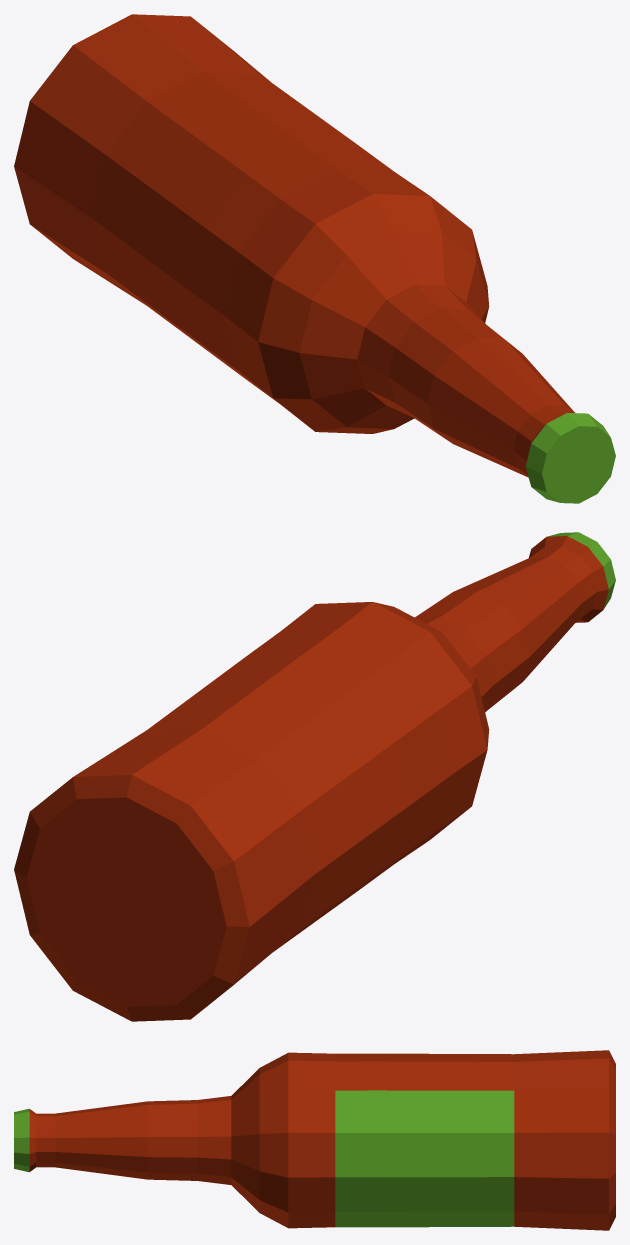
The model's file is beerBottle.obj.
3 renders of one model, top to bottom at view 1: azimuth 30°, elevation 25°; view 2: azimuth 150°, elevation 25°; view 3: azimuth 270°, elevation 25°, orthographic. The views are drawn at different scales.
Parts seen in each view (by area): view 1: Object.4, Object.2, Object.3, Object.1; view 2: Object.2, Object.1, Object.4, Object.3; view 3: Object.2, Object.4, Object.1, Object.3.
Part boxes in pixels (x1,y1,x2,y2): Object.4: (176,190,590,493); Object.2: (40,14,420,338); Object.3: (526,413,615,503); Object.1: (14,47,235,324); Object.2: (47,602,437,939); Object.1: (14,798,305,1021); Object.4: (307,536,608,925); Object.3: (548,532,615,608); Object.2: (288,1050,615,1226); Object.4: (29,1052,450,1228); Object.1: (476,1099,615,1230); Object.3: (14,1109,29,1171).
Bounding box in the file's own units: 1.84 × 1.84 × 6.12.
